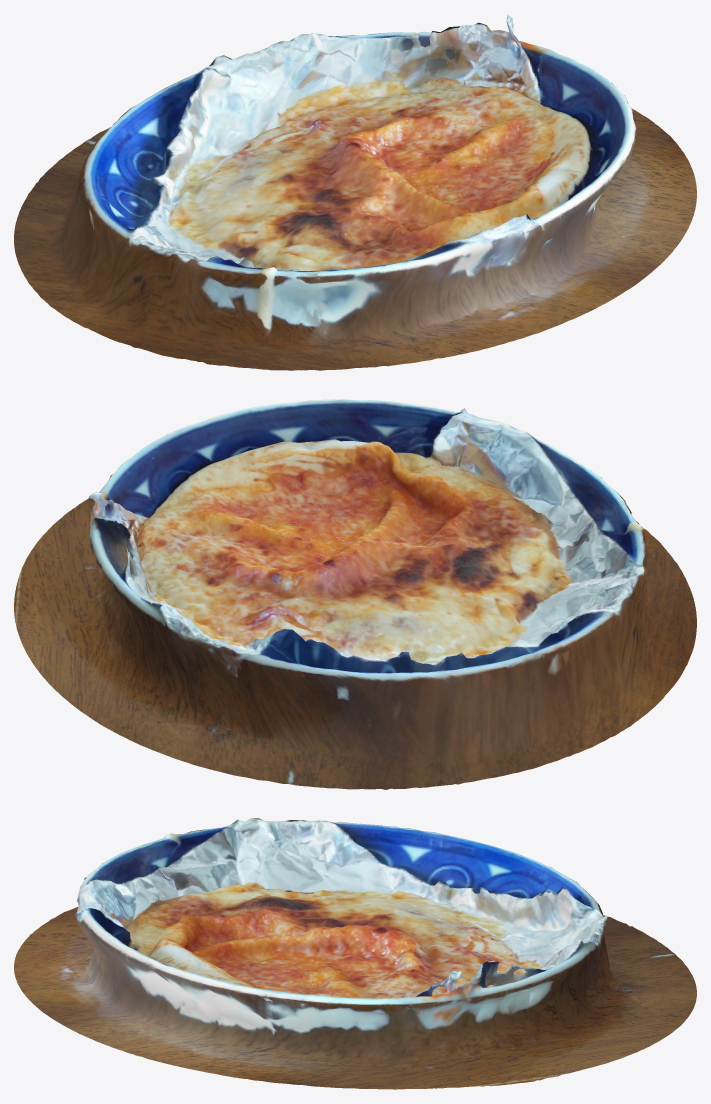
3 views of the same model, one above another, from view 1: azimuth 30°, elevation 25°; view 2: azimuth 150°, elevation 25°; view 3: azimuth 270°, elevation 25° (orthographic). The views are drawn at different scales.
Parts seen in each view (by area): view 1: 1d509b9a-caa5-4d0b-900f-0abefa86429c; view 2: 1d509b9a-caa5-4d0b-900f-0abefa86429c; view 3: 1d509b9a-caa5-4d0b-900f-0abefa86429c.
Boxes of the visible parts, bbox=[...] form: 1d509b9a-caa5-4d0b-900f-0abefa86429c: bbox=[14, 14, 696, 370]; 1d509b9a-caa5-4d0b-900f-0abefa86429c: bbox=[14, 399, 696, 789]; 1d509b9a-caa5-4d0b-900f-0abefa86429c: bbox=[14, 818, 696, 1089].
Bounding box in the file's own units: 0.8485 × 0.1987 × 0.9045.
Materials: 1 (1 with a texture image).
